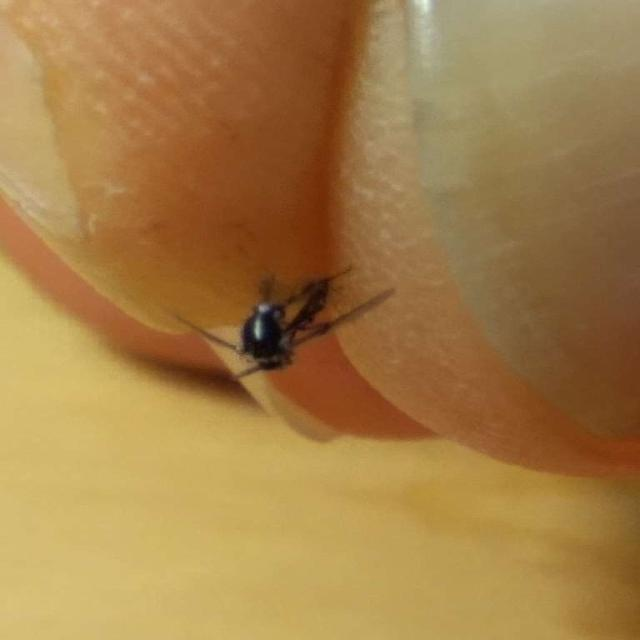albopictus: (164, 256, 398, 390)
